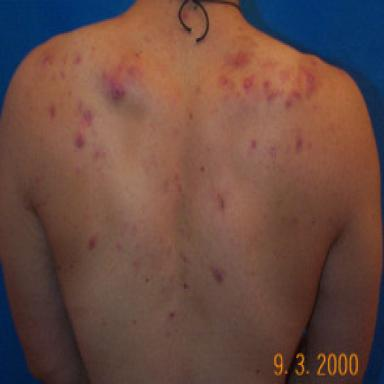acne: (299, 67, 316, 97), (263, 80, 283, 99), (229, 51, 249, 67), (111, 79, 125, 98), (211, 266, 223, 283), (243, 75, 254, 90), (75, 132, 85, 147), (280, 69, 290, 82), (126, 67, 140, 76), (83, 110, 91, 125), (295, 135, 302, 152), (291, 89, 301, 99), (219, 75, 228, 85), (89, 236, 96, 248), (49, 105, 55, 119), (73, 55, 81, 65), (42, 54, 50, 63), (284, 99, 292, 107), (251, 139, 257, 149), (75, 165, 81, 174), (95, 149, 100, 159), (117, 66, 123, 73), (169, 312, 175, 318), (311, 61, 316, 66)
